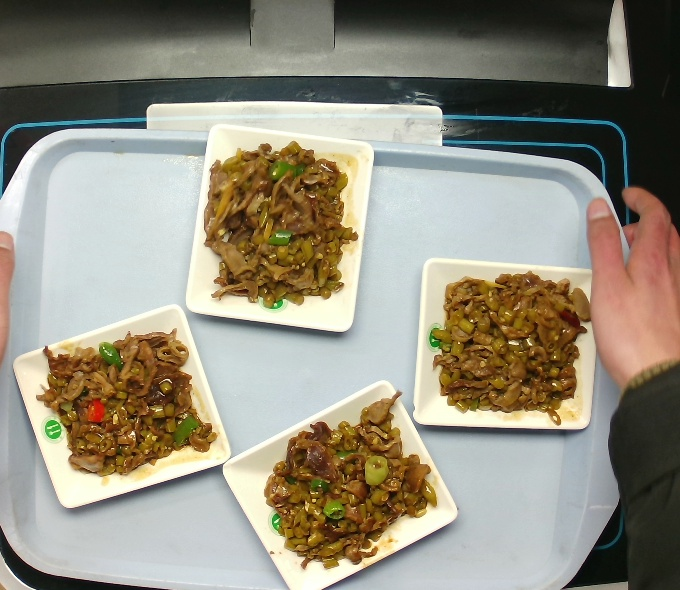wcq-JiZhen: (259, 388, 443, 577), (31, 322, 222, 480), (425, 266, 600, 432), (199, 139, 361, 314)
